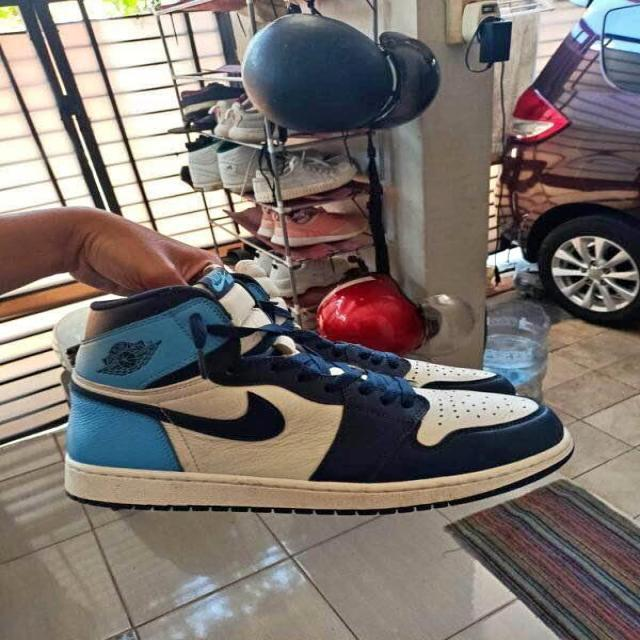nike original jordan 1: (57, 286, 588, 518), (180, 264, 524, 410)
